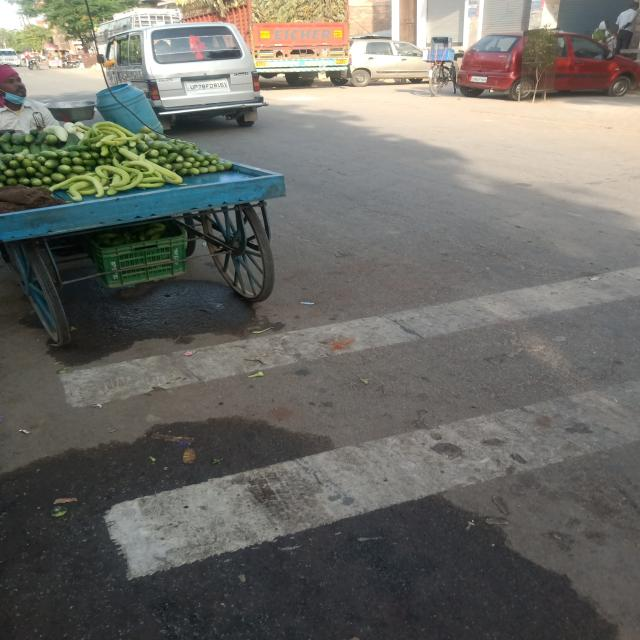Car: (105, 21, 267, 130), (547, 32, 640, 95), (458, 34, 533, 100), (350, 40, 430, 85)
Truck: (185, 0, 350, 85)
